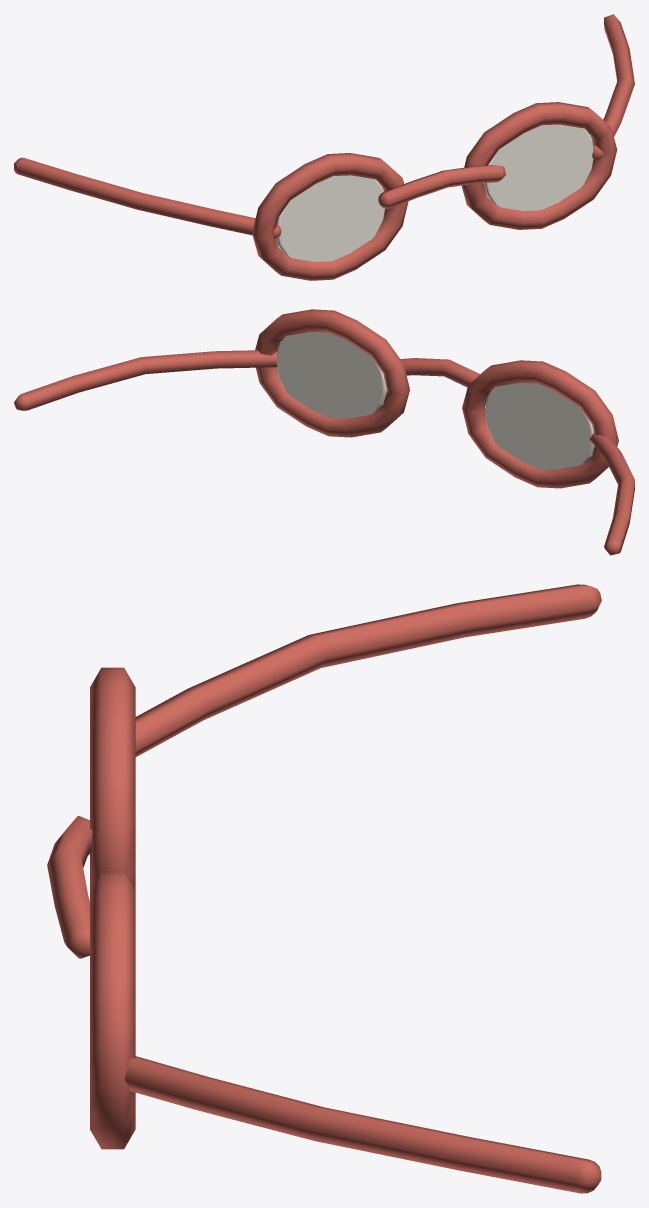
File: ladder_shades.glb
3 views of the same model, one above another, from view 1: azimuth 30°, elevation 25°; view 2: azimuth 150°, elevation 25°; view 3: azimuth 270°, elevation 25° (orthographic). The views are drawn at different scales.
Visible parts, largest first — view 1: ladder_shades_Head; view 2: ladder_shades_Head; view 3: ladder_shades_Head.
Boxes of the visible parts, box(x1,y1,x2,y2) form: ladder_shades_Head: box(14, 14, 634, 280); ladder_shades_Head: box(14, 309, 634, 555); ladder_shades_Head: box(47, 584, 601, 1193).
Bounding box in the file's own units: 0.674 × 0.1296 × 0.2681.
